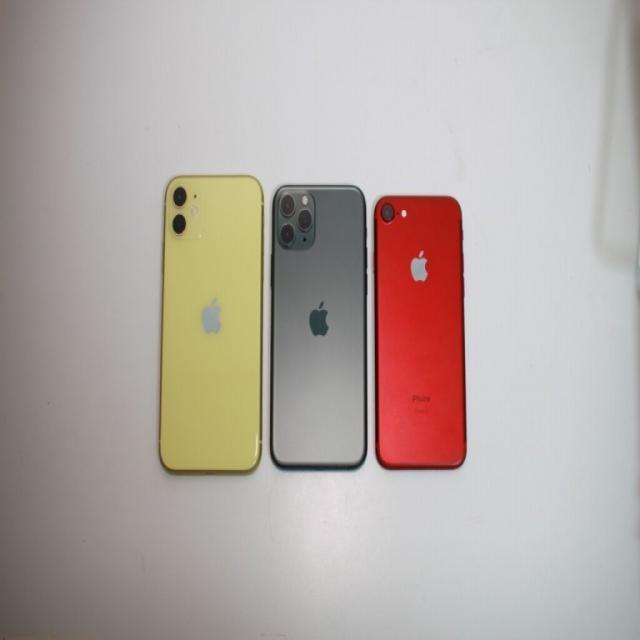phone: (158, 174, 264, 476), (270, 183, 368, 470), (374, 195, 467, 470)
